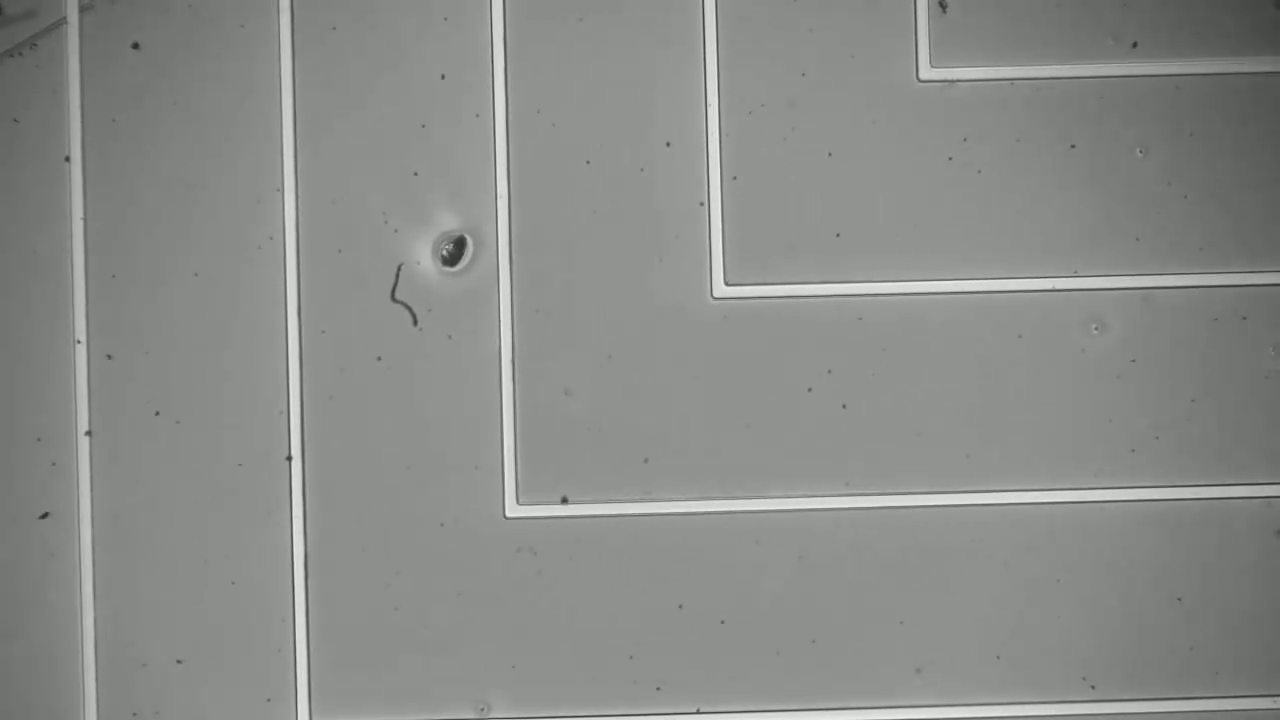scratch: (6, 1, 89, 74)
